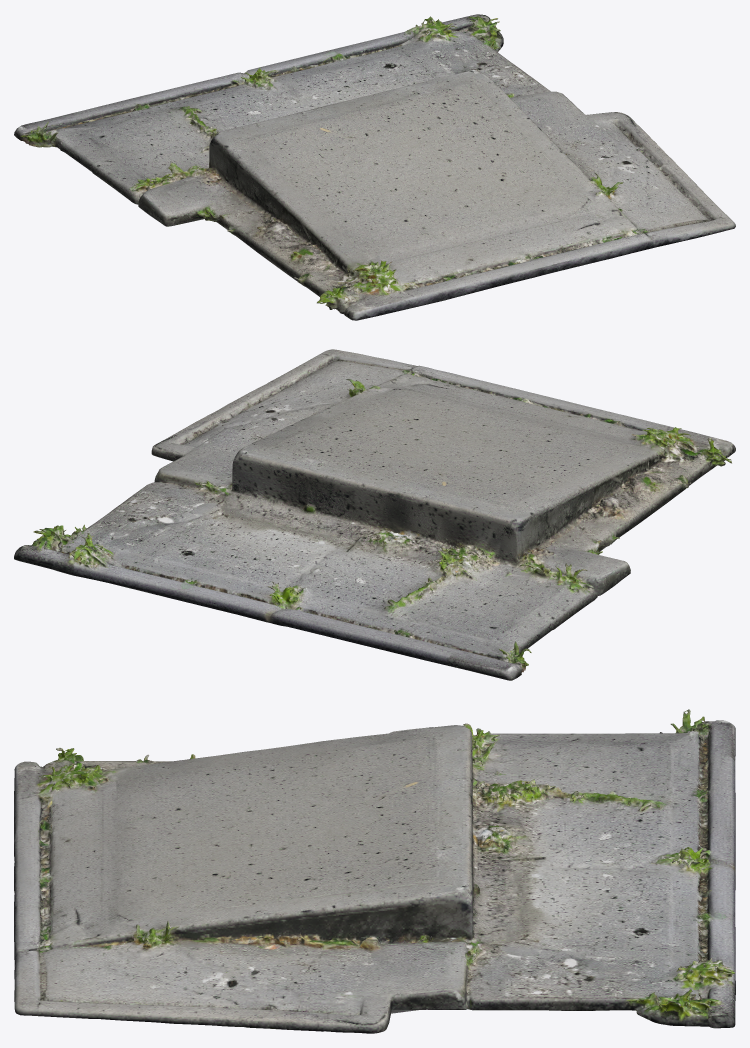
Rendered from uneven_5.glb.
3 renders of one model, top to bottom at view 1: azimuth 30°, elevation 25°; view 2: azimuth 150°, elevation 25°; view 3: azimuth 270°, elevation 25°, orthographic. The views are drawn at different scales.
Parts seen in each view (by area): view 1: Mesh_0; view 2: Mesh_0; view 3: Mesh_0.
Boxes of the visible parts, x1,y1,x2,y2 form: Mesh_0: (14, 14, 735, 320); Mesh_0: (14, 349, 735, 680); Mesh_0: (14, 709, 735, 1033).
Size of the model in its own units: 1.92 by 0.2067 by 1.91.
1 material, 1 textured.
